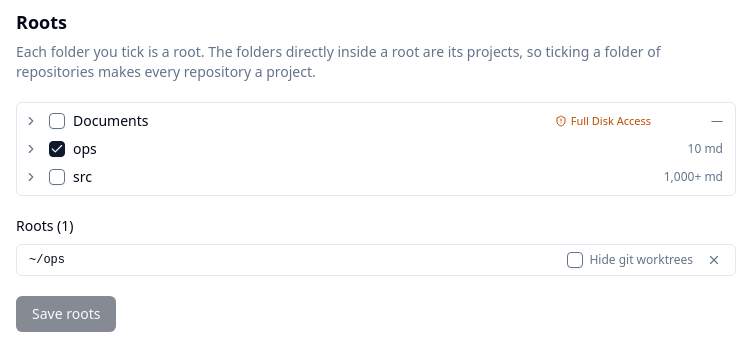
Test: SettingsView — choosing › removes a root from the chosen list
The image size is (753, 349).
Click the button named "Remove /Users/me/ops" at (714,260), box [705,251,723,269]
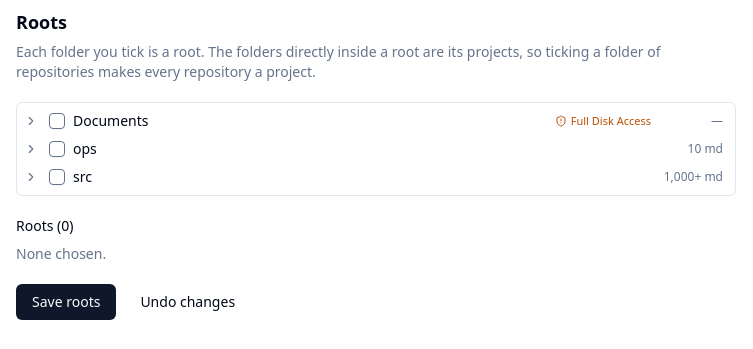
Now the text "None chosen." is shown, box [16,244,106,263]
